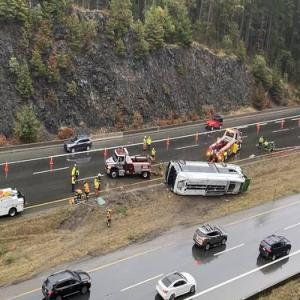severe: (160, 153, 250, 200)
